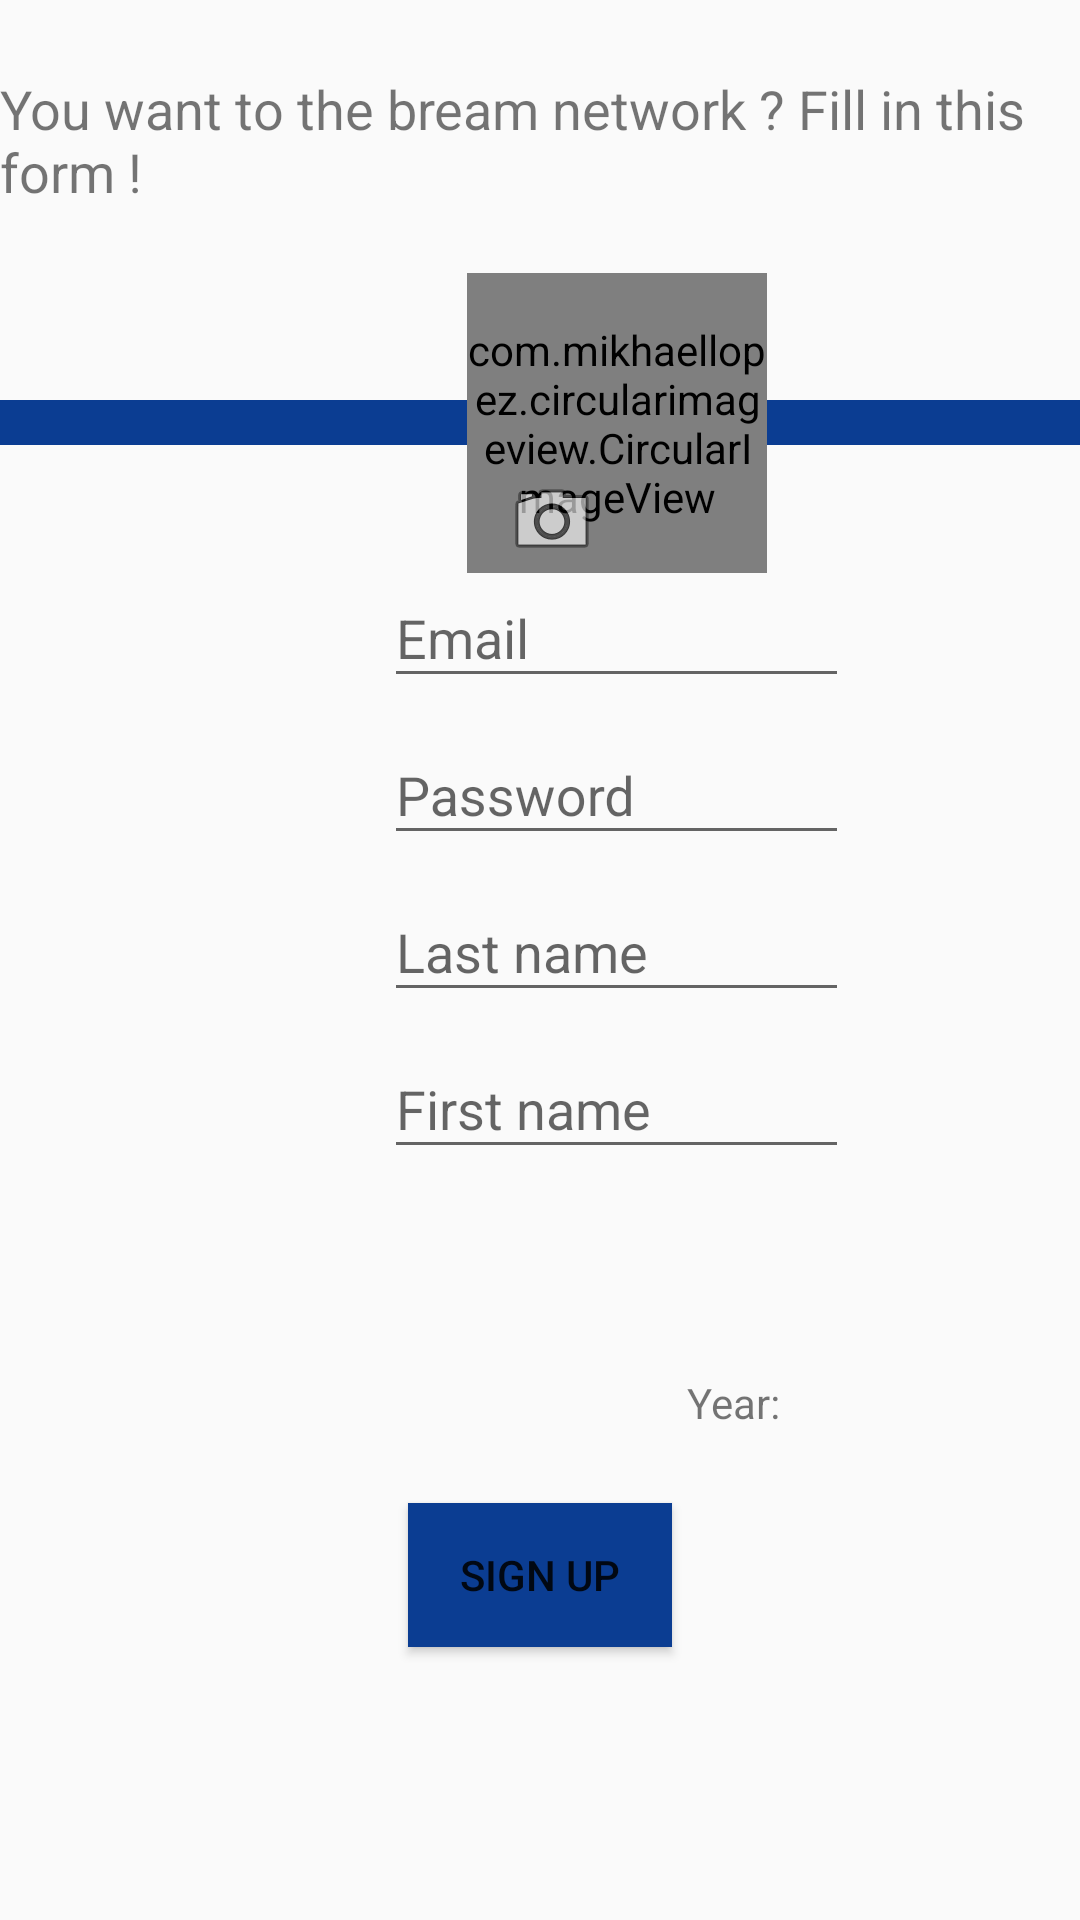

Icons on this 1080 x 1920 Android screen, each with its box as {"x1": x1, "y1": y1, "x2": x2, "y2": y2}:
camera: {"x1": 515, "y1": 489, "x2": 600, "y2": 548}
